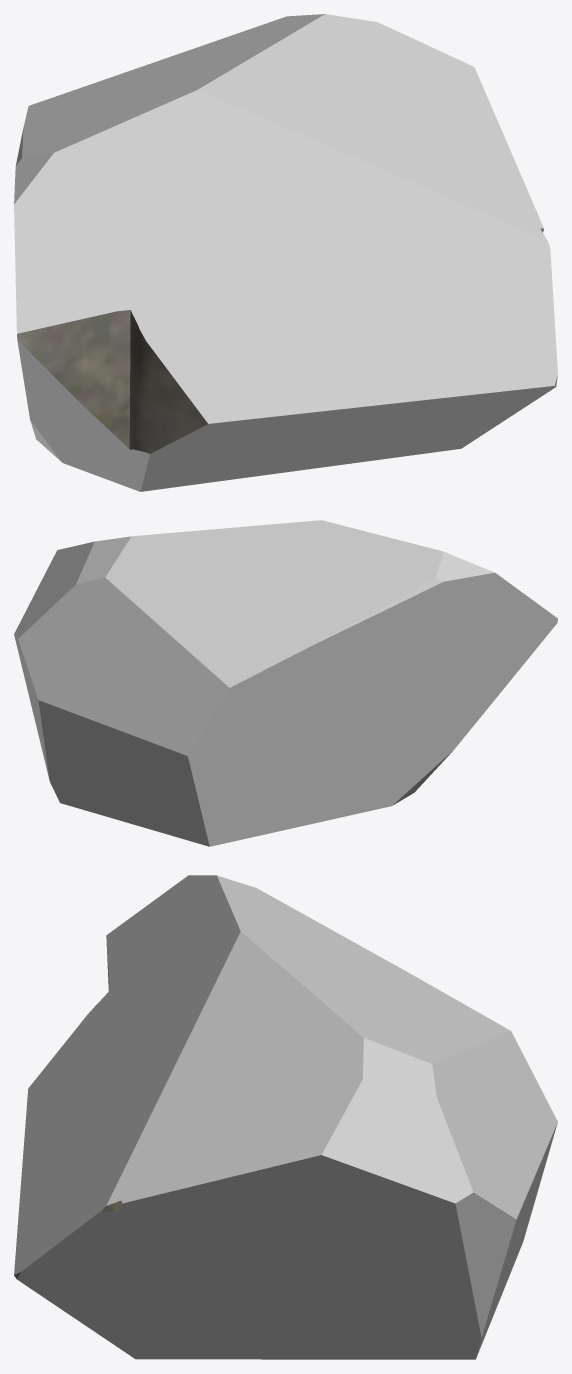
File: ColumnDamage08_17.fbx
3 renders of one model, top to bottom at view 1: azimuth 30°, elevation 25°; view 2: azimuth 150°, elevation 25°; view 3: azimuth 270°, elevation 25°, orthographic. The views are drawn at different scales.
Parts seen in each view (by area): view 1: ColumnDamage08_DM.017; view 2: ColumnDamage08_DM.017; view 3: ColumnDamage08_DM.017.
Boxes of the visible parts, bbox=[...] form: ColumnDamage08_DM.017: bbox=[14, 14, 557, 491]; ColumnDamage08_DM.017: bbox=[14, 520, 557, 846]; ColumnDamage08_DM.017: bbox=[14, 875, 557, 1359].
Size of the model in its own units: 170 by 104 by 152.
